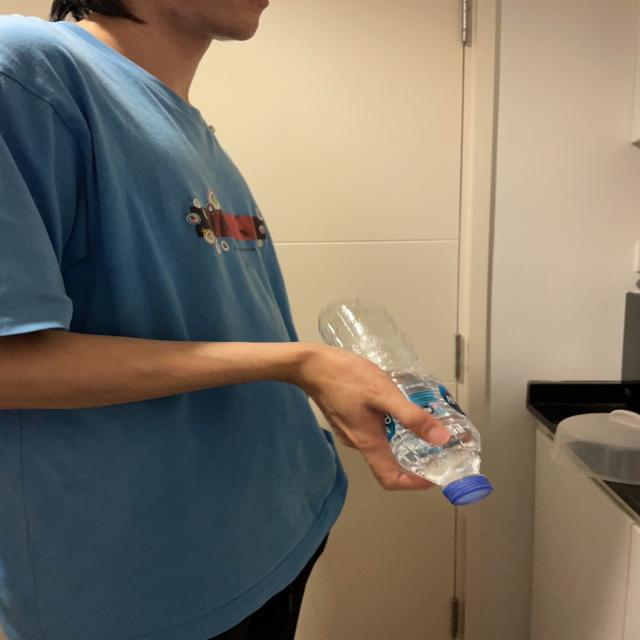bottle: (314, 300, 494, 512)
